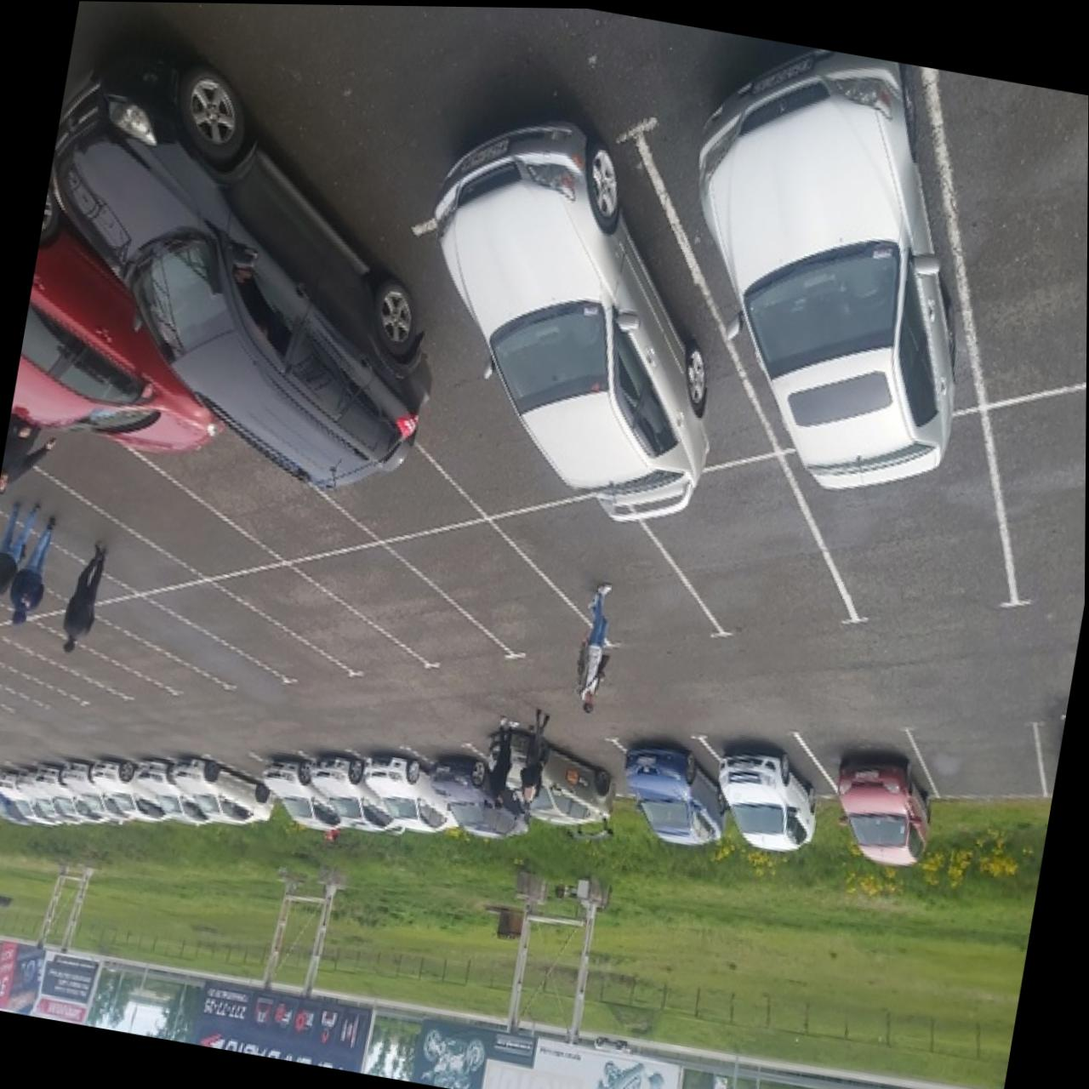cars: (619, 30, 1018, 480), (421, 107, 781, 502), (309, 186, 596, 501), (201, 302, 468, 549), (163, 388, 361, 561), (606, 702, 750, 850), (789, 708, 952, 836), (699, 715, 850, 841), (532, 698, 652, 814), (472, 725, 607, 819), (243, 735, 360, 838), (294, 738, 411, 830), (352, 739, 460, 833), (421, 735, 529, 820), (23, 737, 115, 836), (167, 744, 277, 826), (45, 735, 141, 823), (0, 742, 80, 842), (127, 743, 218, 826), (83, 747, 178, 821), (0, 750, 52, 845)
empty: (773, 411, 1031, 627), (632, 454, 865, 661), (511, 486, 735, 684), (151, 547, 404, 704), (50, 424, 257, 599), (231, 533, 448, 698), (414, 504, 611, 682), (317, 521, 517, 683), (0, 445, 178, 619), (102, 558, 303, 708), (44, 591, 224, 705), (0, 613, 171, 706), (914, 686, 1037, 811), (0, 513, 110, 641), (210, 741, 313, 828), (0, 632, 112, 704), (0, 647, 90, 712)
